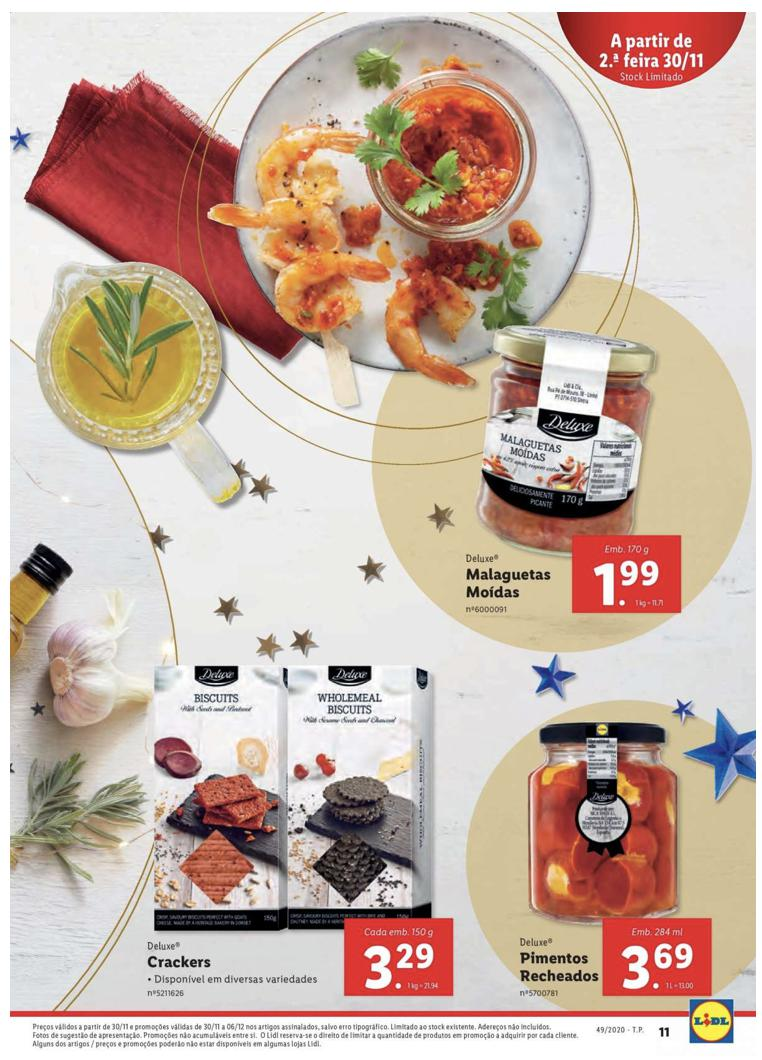name: (462, 565, 556, 604), (516, 948, 606, 985), (143, 951, 219, 971)
price: (615, 938, 696, 993), (362, 940, 436, 996), (594, 556, 662, 611)
product: (129, 654, 457, 1006), (428, 305, 696, 639), (496, 715, 735, 1011)
